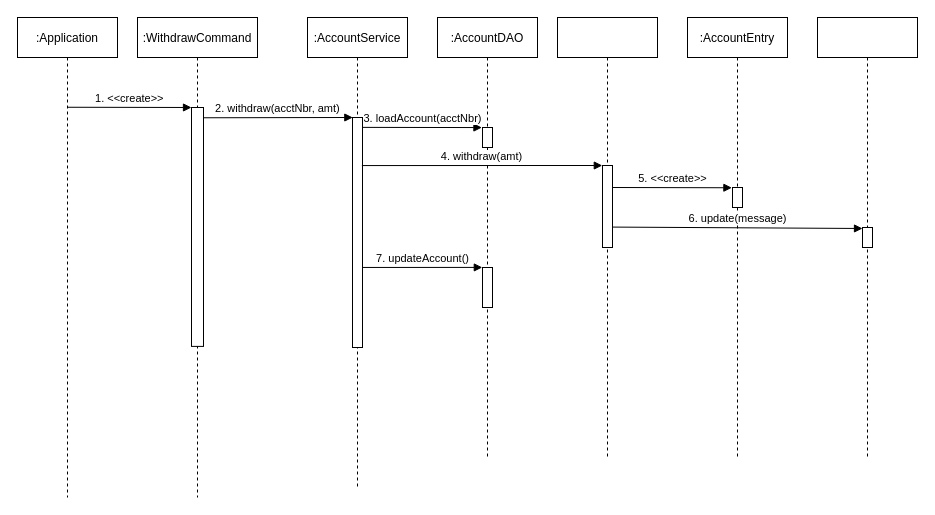
This 935x515 diagram has some shape labels left out. The box of each missing label's shape, as (x1, y1, x2, y2) in pixels:
:Account: (556, 16, 658, 460)
:Email: (816, 16, 918, 460)
